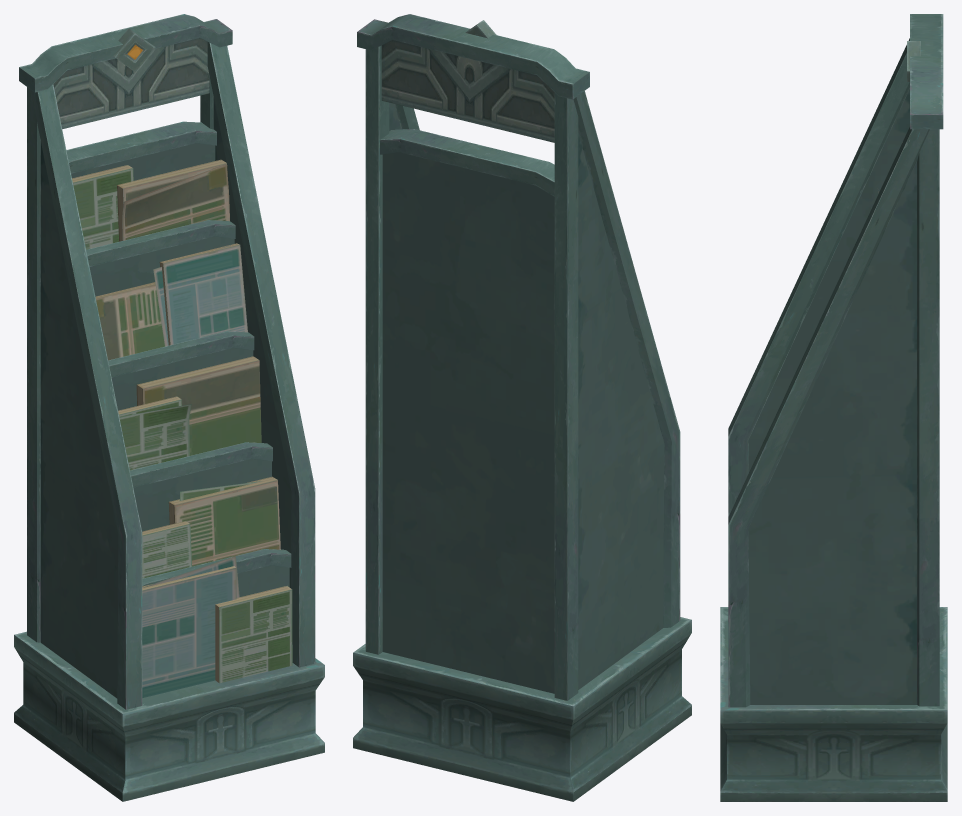
The model's file is Homeworld_Exterior_Fd_Decoration_Prop_Baokanting_03_Vo.fbx.
The picture shows the model from 3 angles, left to right: view 1: azimuth 30°, elevation 25°; view 2: azimuth 150°, elevation 25°; view 3: azimuth 270°, elevation 25°; orthographic projection. The views are drawn at different scales.
Visible parts, largest first — view 1: Area_Fd_Prop_FDC_Baokanting_04_Vo; view 2: Area_Fd_Prop_FDC_Baokanting_04_Vo; view 3: Area_Fd_Prop_FDC_Baokanting_04_Vo.
Boxes of the visible parts, <box> form: Area_Fd_Prop_FDC_Baokanting_04_Vo: <box>14,14,324,801</box>; Area_Fd_Prop_FDC_Baokanting_04_Vo: <box>353,14,691,801</box>; Area_Fd_Prop_FDC_Baokanting_04_Vo: <box>720,14,947,801</box>.
Bounding box in the file's own units: 0.859 × 2.76 × 0.7995.
